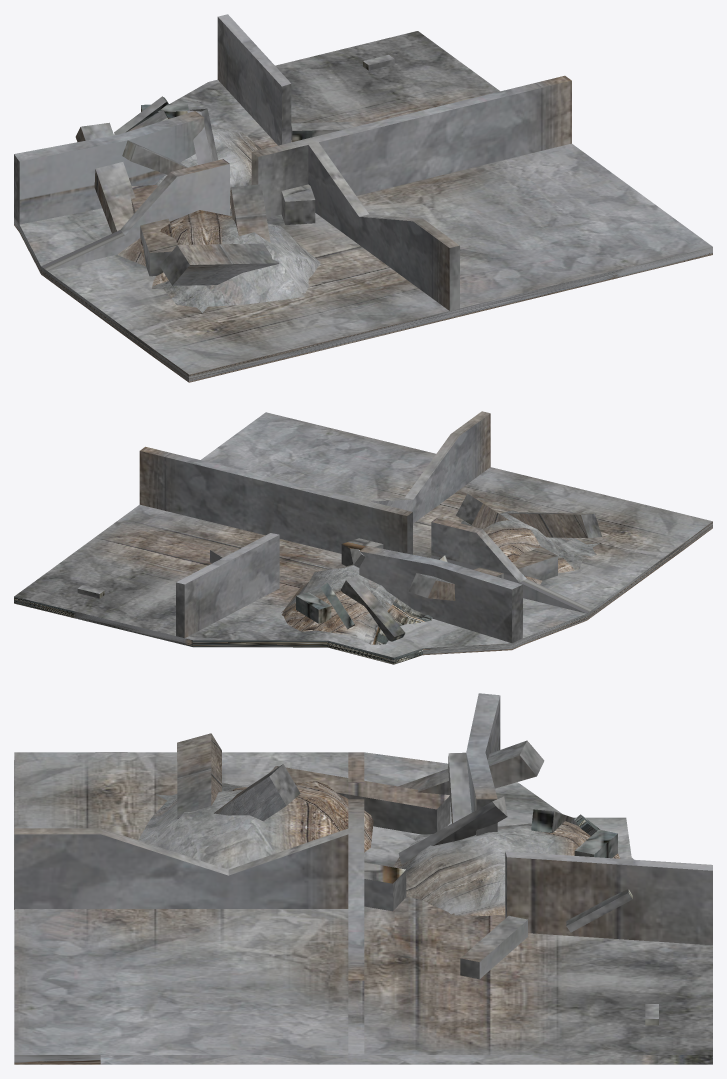
The model's file is stockwerkboden.obj.
The picture shows the model from 3 angles, top to bottom: view 1: azimuth 30°, elevation 25°; view 2: azimuth 150°, elevation 25°; view 3: azimuth 270°, elevation 25°; orthographic projection. The views are drawn at different scales.
Parts seen in each view (by area): view 1: polySurface192; view 2: polySurface192; view 3: polySurface192.
Boxes of the visible parts, x1=… form: polySurface192: x1=14, y1=14, x2=712, y2=382; polySurface192: x1=14, y1=411, x2=712, y2=664; polySurface192: x1=14, y1=693, x2=712, y2=1064.
Size of the model in its own units: 12.47 by 1.8 by 12.16.
Materials: 1 (1 with a texture image).
